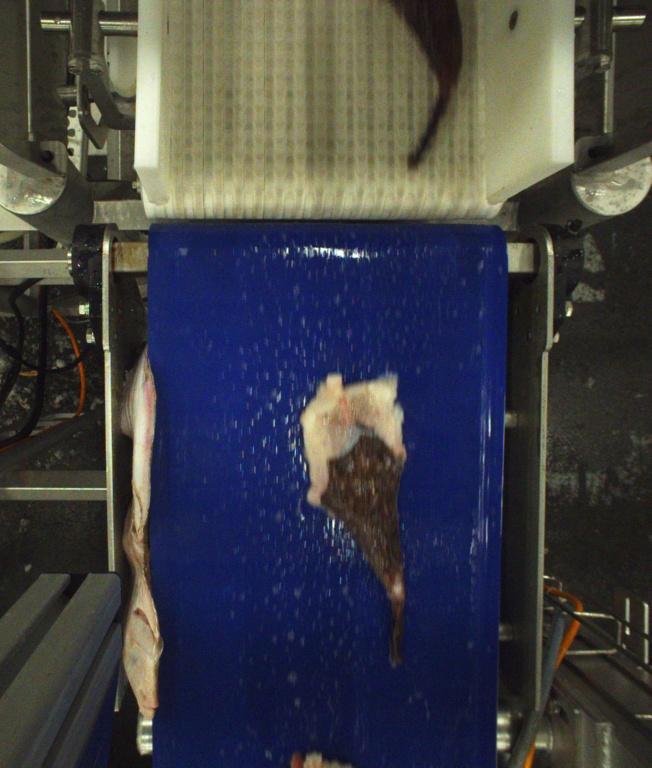ANF: (298, 369, 409, 663)
